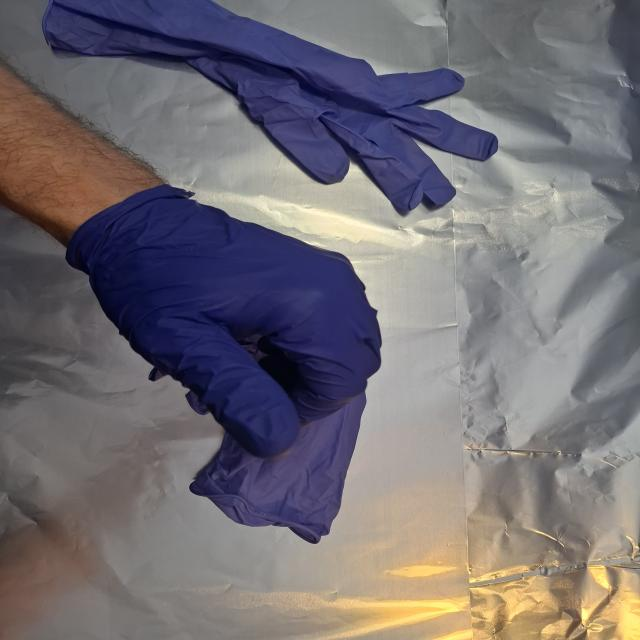glove_on: (63, 184, 386, 460)
